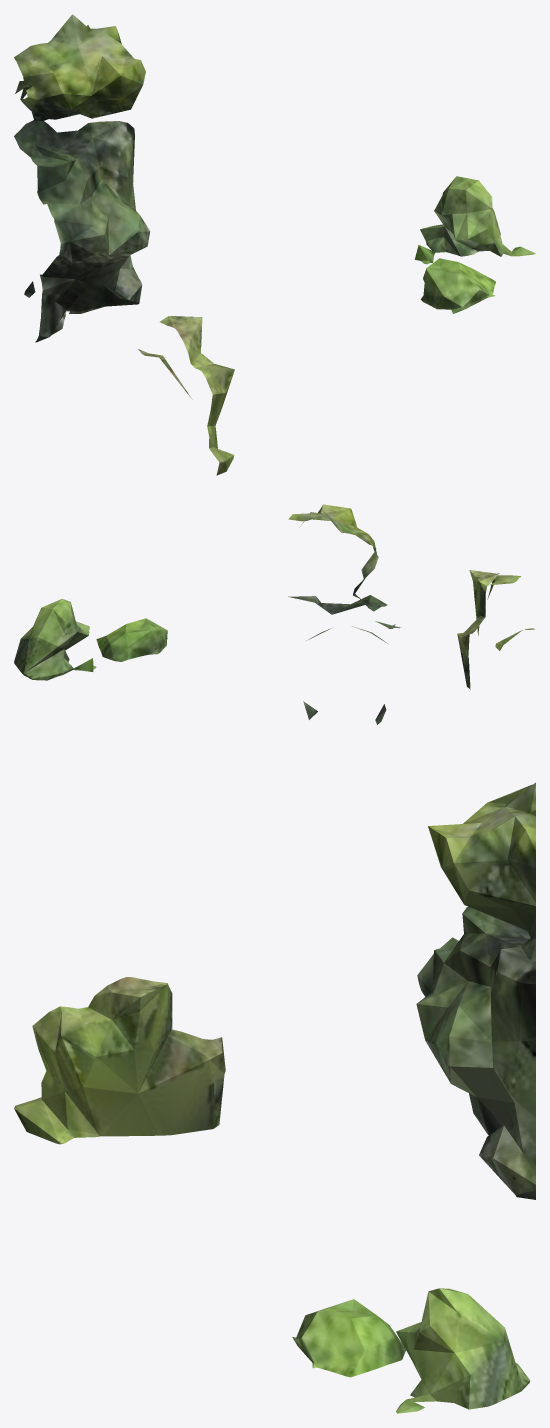
3 views of the same model, one above another, from view 1: azimuth 30°, elevation 25°; view 2: azimuth 150°, elevation 25°; view 3: azimuth 270°, elevation 25° (orthographic). The views are drawn at different scales.
Bounding box in the file's own units: 20.11 × 12.29 × 15.36.
Materials: 1 (1 with a texture image).
